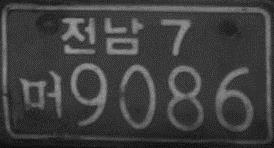0: (117, 62, 157, 129)
6: (213, 64, 253, 131)
7: (157, 15, 193, 58)
8: (166, 63, 204, 131)
9: (70, 61, 109, 127)
머: (17, 69, 64, 119)
전남_O: (60, 14, 144, 57)
